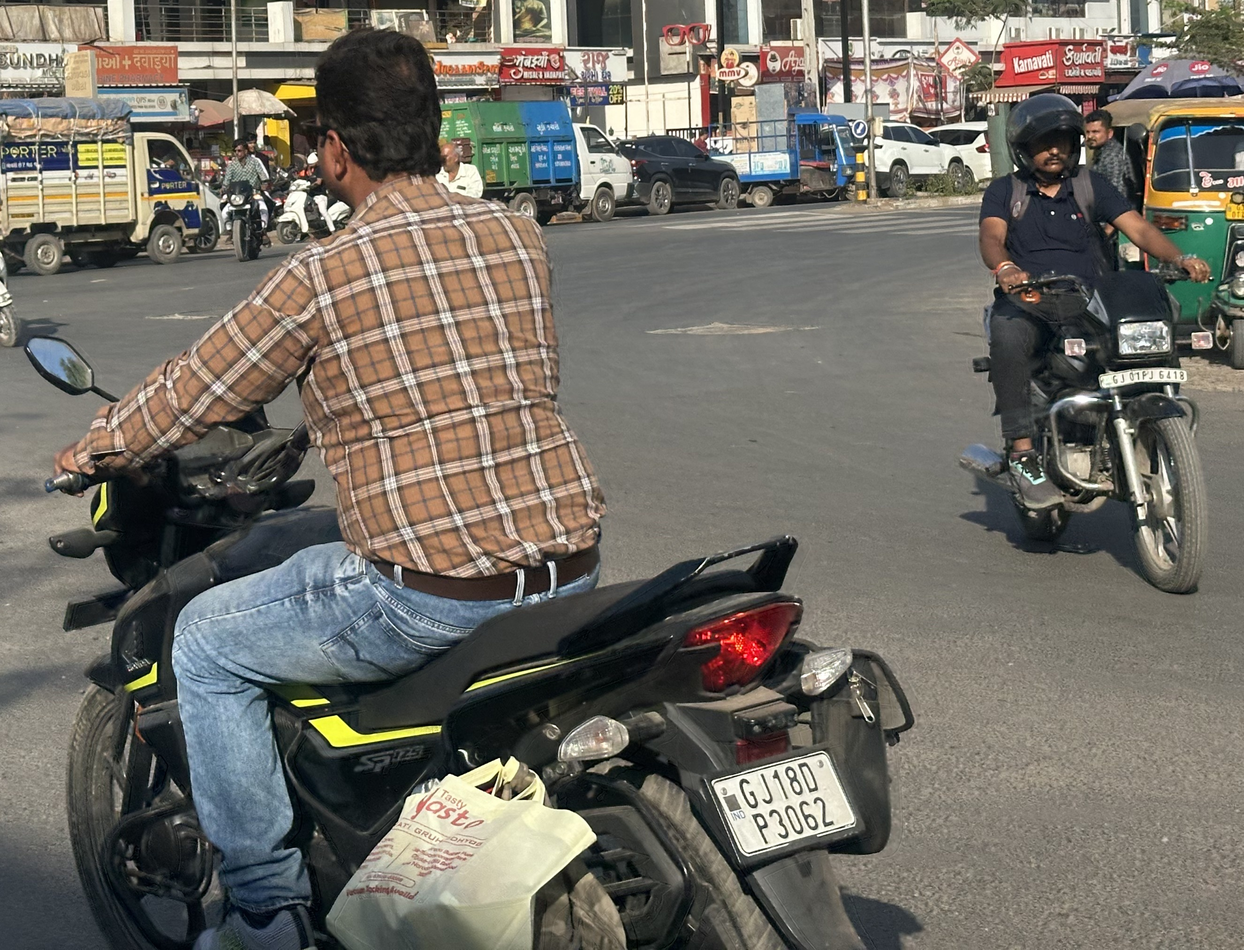BikeWithRider: (14, 21, 922, 949), (950, 82, 1220, 601), (212, 132, 282, 266)
Helmet: (996, 86, 1092, 193)
NoHelmet: (293, 22, 458, 217)
